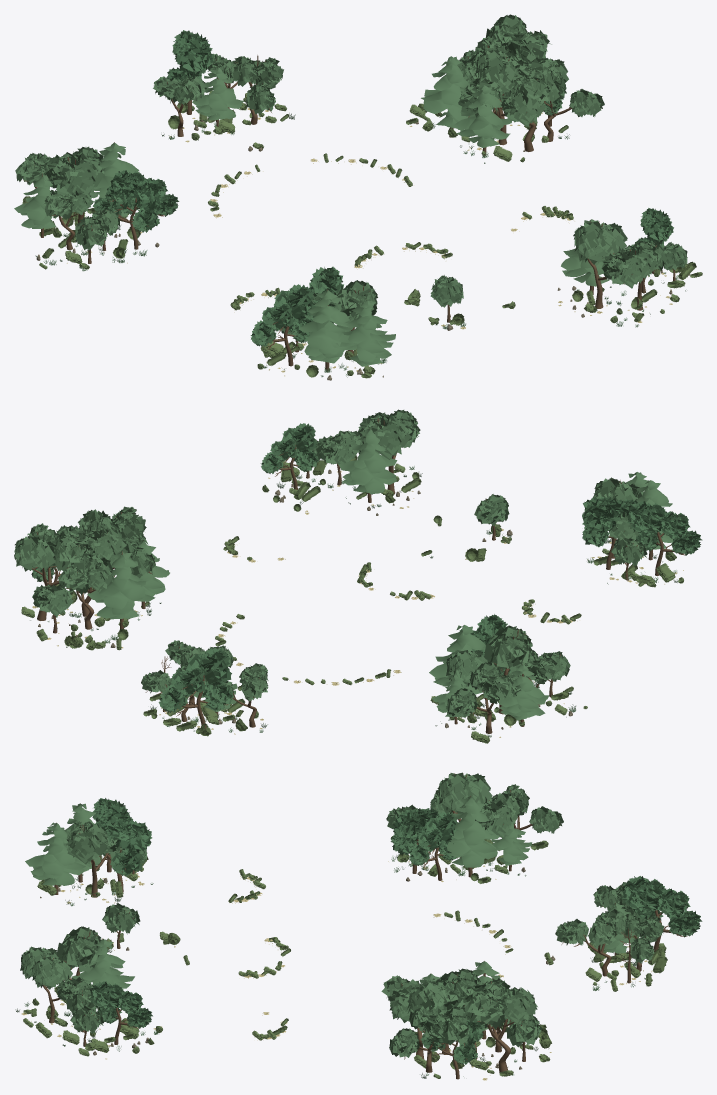
The model's file is atlas-v82-atlas-landscape.glb.
3 renders of one model, top to bottom at view 1: azimuth 30°, elevation 25°; view 2: azimuth 150°, elevation 25°; view 3: azimuth 270°, elevation 25°, orthographic. The views are drawn at different scales.
Parts seen in each view (by area): view 1: v82-atlas-tree-026, v82-atlas-tree-014, v82-atlas-tree-021, v82-atlas-tree-020, v82-atlas-tree-006, v82-atlas-tree-000, v82-atlas-tree-034, v82-atlas-tree-013, v82-atlas-tree-025, v82-atlas-tree-010, v82-atlas-tree-018, v82-atlas-tree-012 (+18 smaller); view 2: v82-atlas-tree-033, v82-atlas-tree-021, v82-atlas-tree-000, v82-atlas-tree-013, v82-atlas-tree-012, v82-atlas-tree-027, v82-atlas-tree-002, v82-atlas-tree-014, v82-atlas-tree-030, v82-atlas-tree-026, v82-atlas-tree-016, v82-atlas-tree-024 (+15 smaller); view 3: v82-atlas-tree-033, v82-atlas-tree-000, v82-atlas-tree-013, v82-atlas-tree-005, v82-atlas-tree-025, v82-atlas-tree-026, v82-atlas-tree-016, v82-atlas-tree-024, v82-atlas-tree-030, v82-atlas-tree-034, v82-atlas-tree-022, v82-atlas-tree-014 (+18 smaller).
Boxes of the visible parts, x1,y1,x2,y2 form: v82-atlas-tree-026: [573, 221, 648, 308]; v82-atlas-tree-014: [458, 57, 554, 151]; v82-atlas-tree-021: [250, 284, 314, 366]; v82-atlas-tree-020: [299, 289, 357, 371]; v82-atlas-tree-006: [93, 179, 165, 249]; v82-atlas-tree-000: [45, 146, 104, 223]; v82-atlas-tree-034: [229, 56, 283, 124]; v82-atlas-tree-013: [465, 14, 551, 86]; v82-atlas-tree-025: [335, 299, 395, 373]; v82-atlas-tree-010: [453, 85, 511, 155]; v82-atlas-tree-018: [478, 56, 545, 145]; v82-atlas-tree-012: [421, 56, 469, 137]; v82-atlas-tree-033: [158, 648, 233, 729]; v82-atlas-tree-021: [626, 501, 702, 575]; v82-atlas-tree-000: [446, 625, 534, 714]; v82-atlas-tree-013: [14, 523, 112, 620]; v82-atlas-tree-012: [87, 551, 155, 629]; v82-atlas-tree-027: [338, 428, 397, 502]; v82-atlas-tree-002: [446, 662, 513, 733]; v82-atlas-tree-014: [78, 506, 155, 577]; v82-atlas-tree-030: [260, 423, 318, 489]; v82-atlas-tree-026: [357, 409, 420, 494]; v82-atlas-tree-016: [50, 529, 120, 616]; v82-atlas-tree-024: [582, 496, 636, 569]; v82-atlas-tree-033: [621, 876, 702, 951]; v82-atlas-tree-000: [437, 772, 517, 838]; v82-atlas-tree-013: [464, 987, 537, 1072]; v82-atlas-tree-005: [440, 795, 500, 877]; v82-atlas-tree-025: [25, 822, 85, 894]; v82-atlas-tree-026: [20, 926, 101, 979]; v82-atlas-tree-016: [438, 968, 510, 1059]; v82-atlas-tree-024: [95, 817, 152, 892]; v82-atlas-tree-030: [89, 981, 152, 1044]; v82-atlas-tree-034: [555, 909, 627, 976]; v82-atlas-tree-022: [66, 821, 124, 897]; v82-atlas-tree-014: [381, 975, 444, 1059].
Size of the model in its own units: 49.47 by 7.68 by 55.2.
